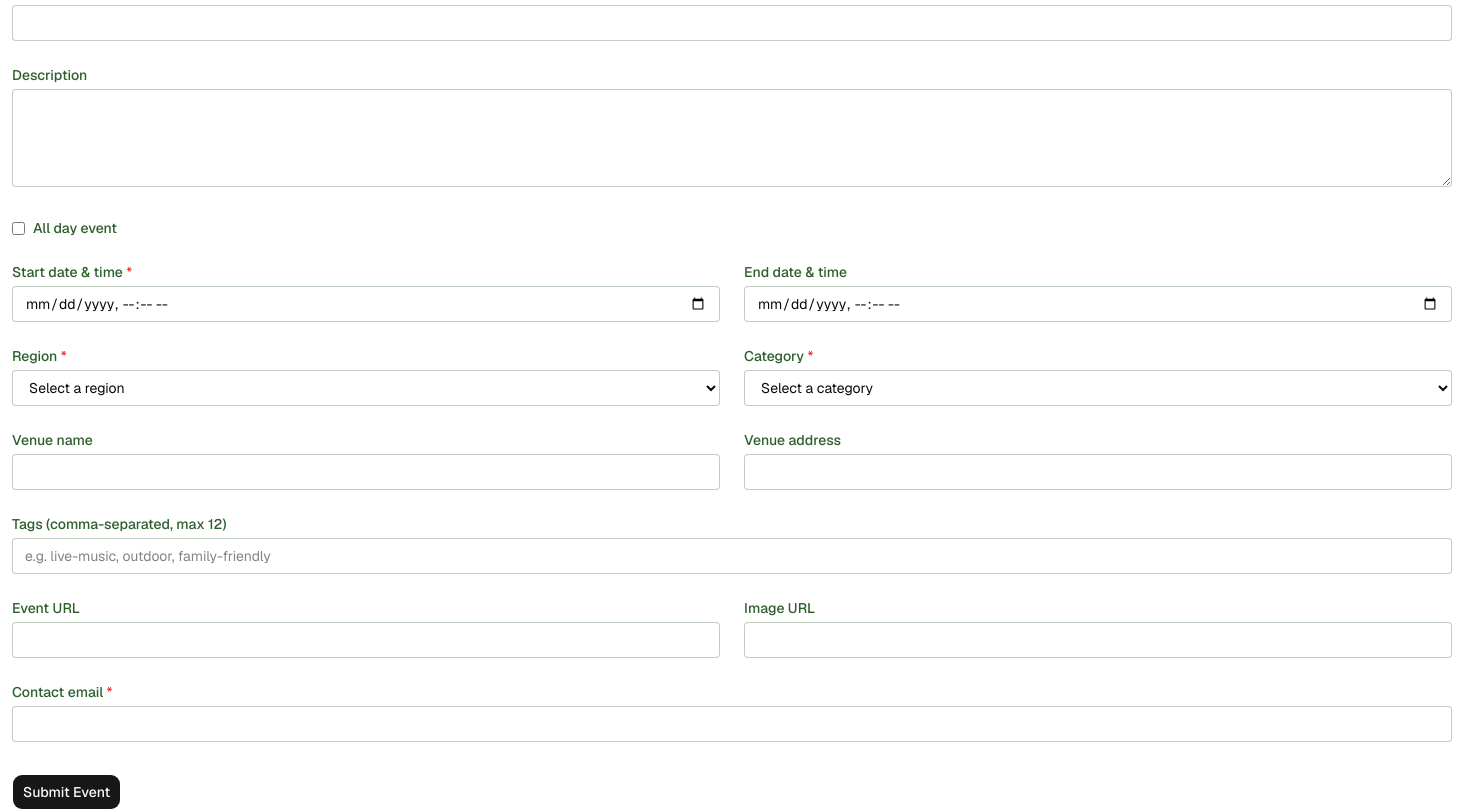
it: SubmissionForm › shows validation errors for missing required fields
The width and height of the screenshot is (1464, 810).
(page scrolled)
Click the button "Submit Event".
click(67, 792)  # box [12, 774, 121, 809]
(page scrolled)
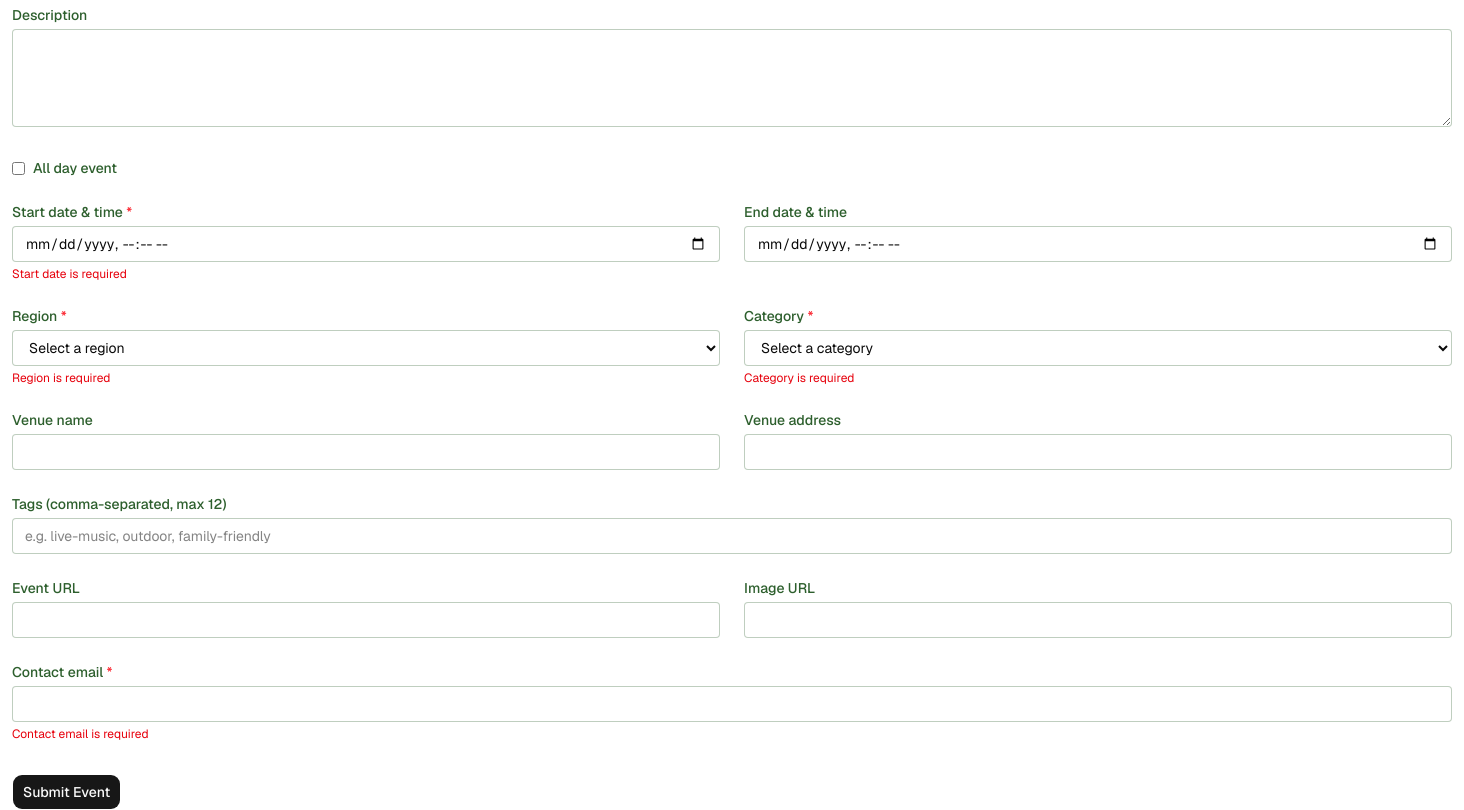
Result: the text "Start date is required" is shown at [12, 266, 127, 282]
Result: the text "Region is required" is shown at [12, 370, 110, 386]
Result: the text "Category is required" is shown at [744, 370, 854, 386]
